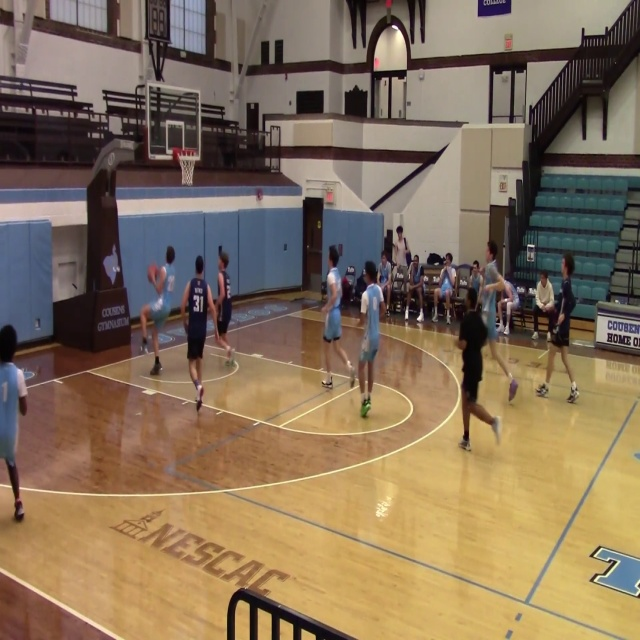Basketball: (147, 264, 166, 285), (155, 266, 167, 286), (508, 379, 518, 401), (147, 264, 157, 283), (166, 245, 175, 263)
